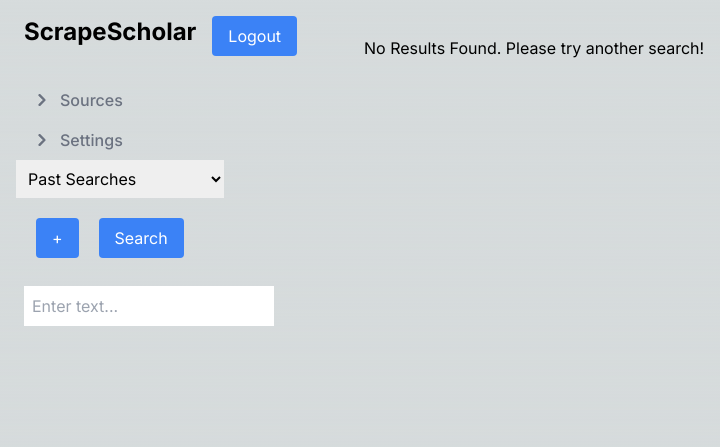
it: SearchView Component › check - button loads
This screenshot has width=720, height=447.
Click the button "+": (57, 238) [36, 218, 79, 258]
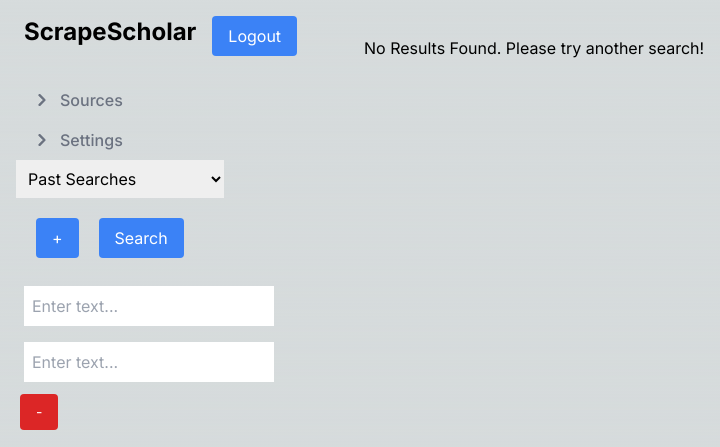
Expected: the button "-" is shown, [20, 394, 58, 430]
